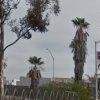Palm tree: (66, 11, 96, 79)
